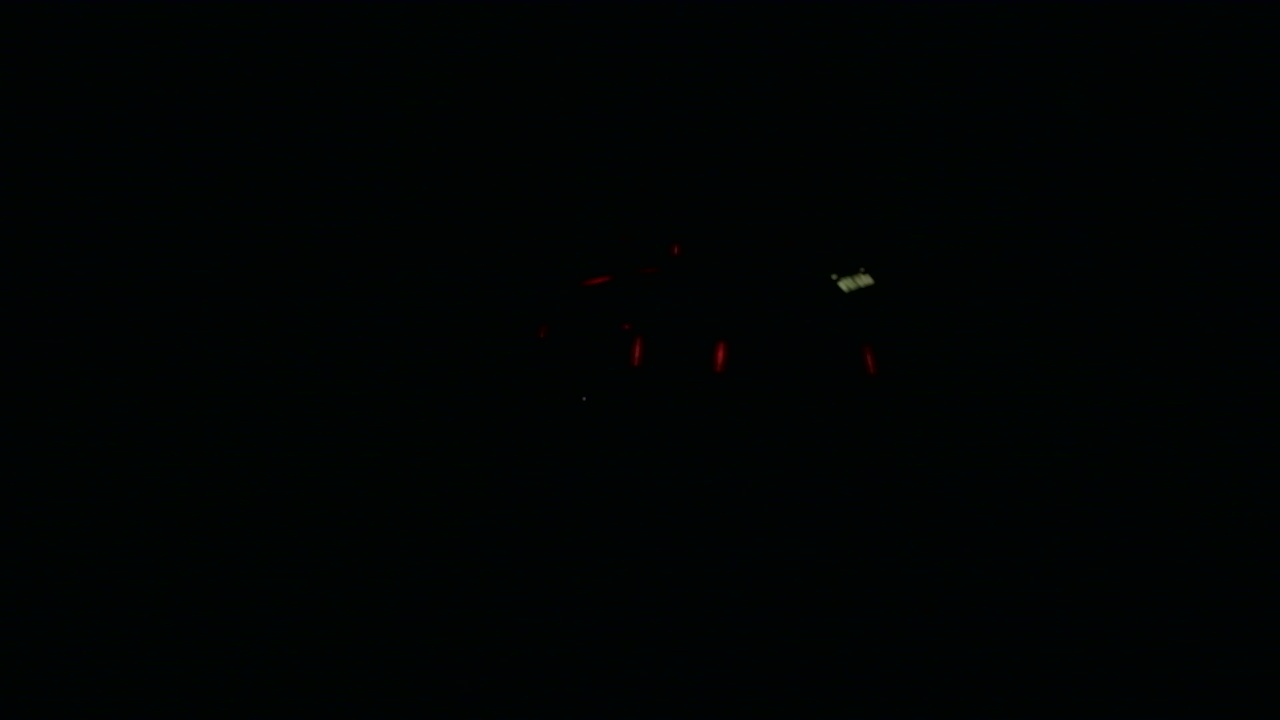lamp: (626, 338, 643, 371), (710, 337, 724, 376), (867, 338, 879, 379)
notpair1: (711, 342, 879, 380)
pair1: (629, 338, 725, 374)
